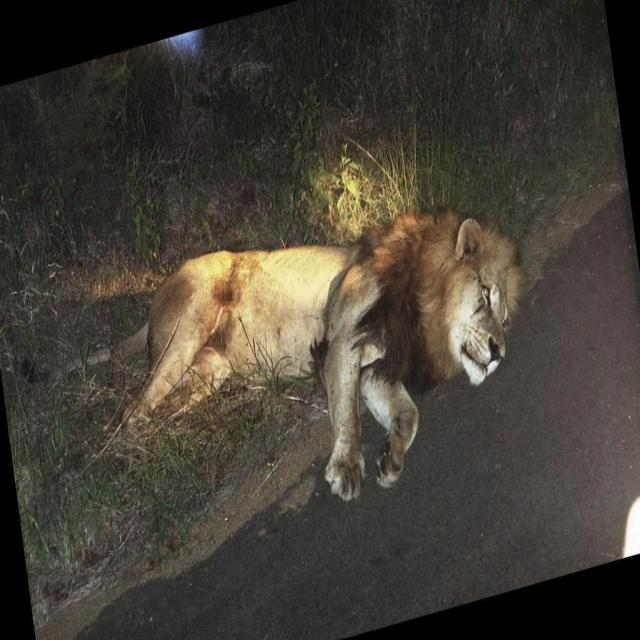Lion: (13, 164, 550, 588)
